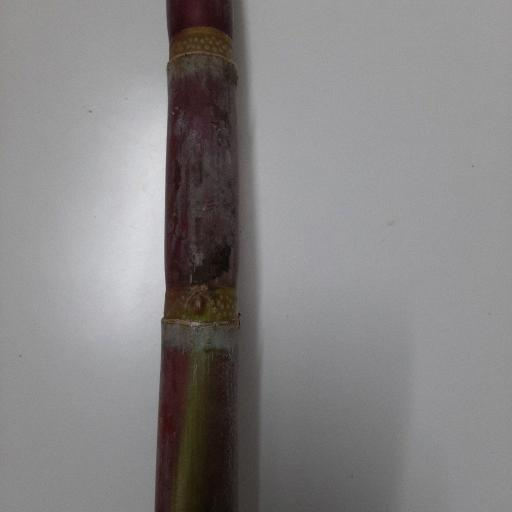Bud: (187, 293, 209, 321)
